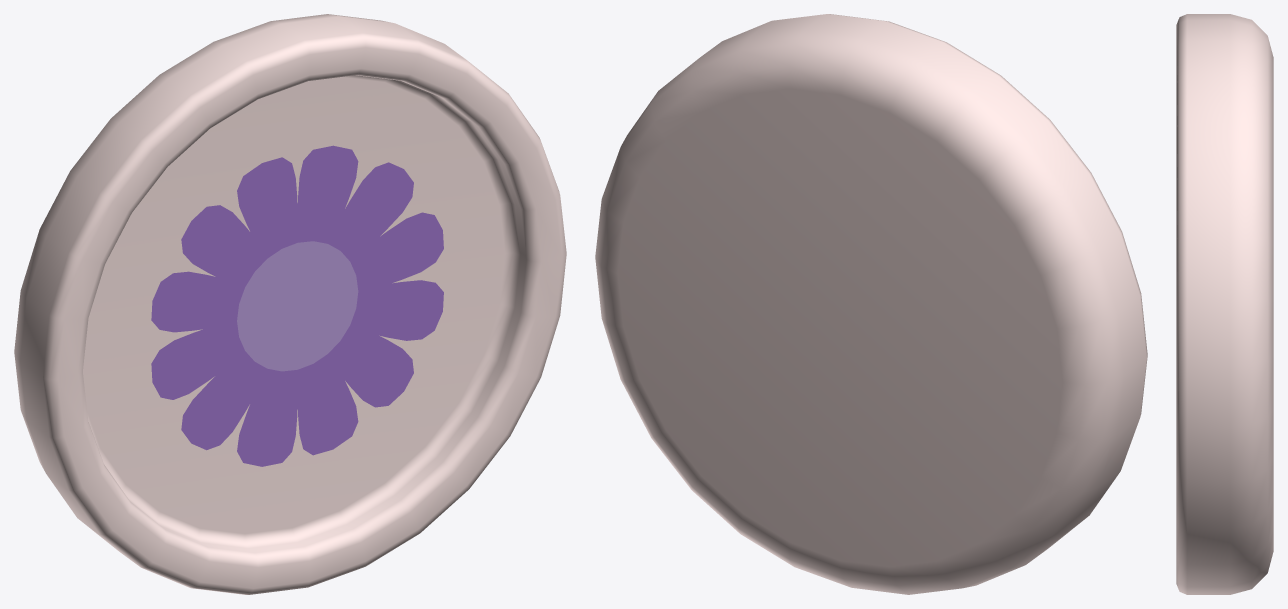
Rendered from City_12_Decor_Plate_5.glb.
The picture shows the model from 3 angles, left to right: view 1: azimuth 30°, elevation 25°; view 2: azimuth 150°, elevation 25°; view 3: azimuth 270°, elevation 25°; orthographic projection. The views are drawn at different scales.
Visible parts, largest first — view 1: City_12_Decor_Plate_5; view 2: City_12_Decor_Plate_5; view 3: City_12_Decor_Plate_5.
Part boxes in pixels (x1,y1,x2,y2): City_12_Decor_Plate_5: (14, 14, 566, 594); City_12_Decor_Plate_5: (595, 14, 1147, 594); City_12_Decor_Plate_5: (1176, 14, 1273, 594).
Size of the model in its own units: 0.5139 by 0.5139 by 0.0859.
1 material, 1 textured.
